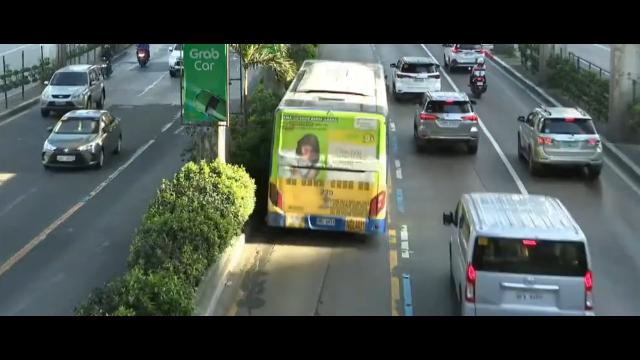bus: (258, 51, 400, 245)
car: (517, 106, 602, 177), (42, 110, 121, 173), (412, 87, 480, 154), (39, 59, 105, 118), (390, 54, 441, 100)
motorcycle: (467, 57, 488, 100), (100, 45, 115, 83), (135, 44, 151, 71)
van: (445, 192, 596, 317)
